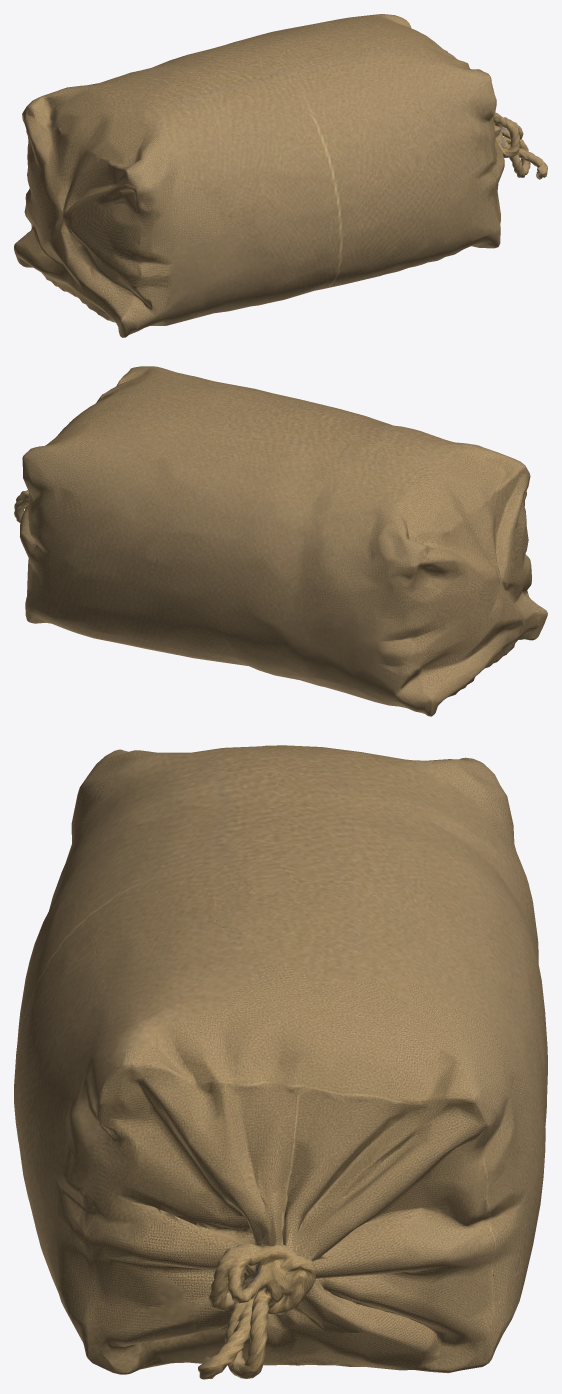
File: sandbag.glb
3 renders of one model, top to bottom at view 1: azimuth 30°, elevation 25°; view 2: azimuth 150°, elevation 25°; view 3: azimuth 270°, elevation 25°, orthographic. The views are drawn at different scales.
Parts seen in each view (by area): view 1: sandbag_0; view 2: sandbag_0; view 3: sandbag_0.
Part boxes in pixels (x1,y1,x2,y2): sandbag_0: [14, 14, 547, 337]; sandbag_0: [14, 366, 547, 716]; sandbag_0: [14, 745, 547, 1379].
Bounding box in the file's own units: 0.65 × 0.263 × 0.349.
1 material, 1 textured.
